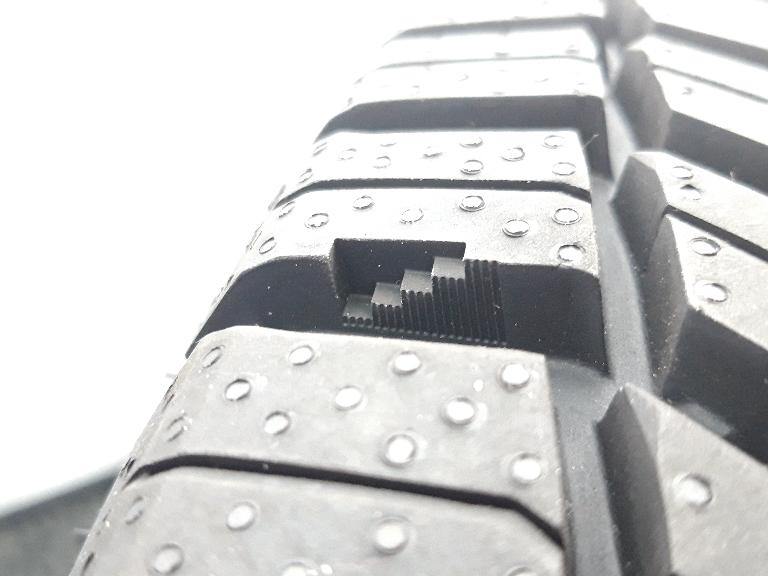temoin:100: (317, 230, 514, 352)
